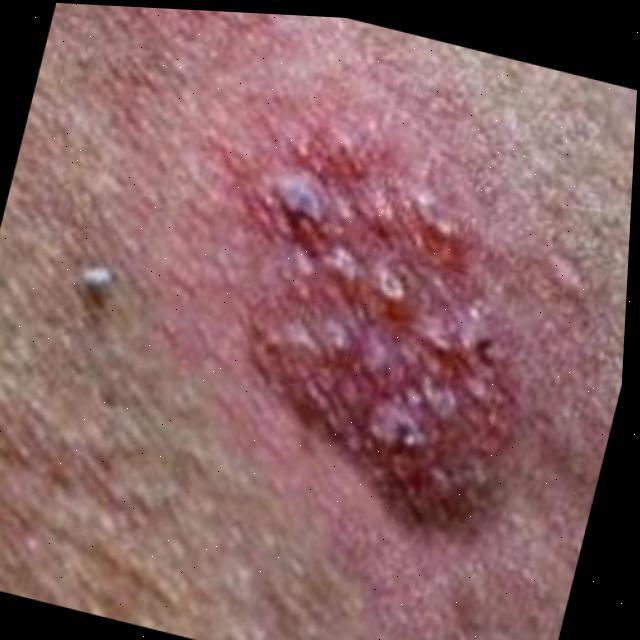Shingles: (214, 159, 548, 491)
